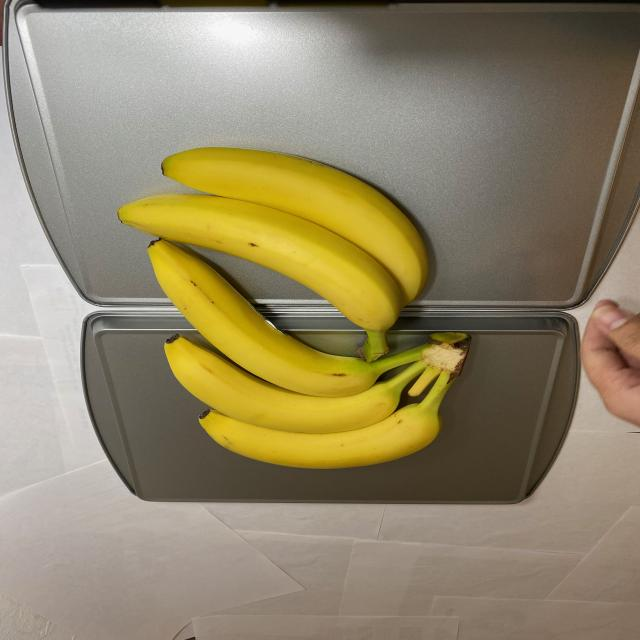banana: (111, 148, 472, 470)
